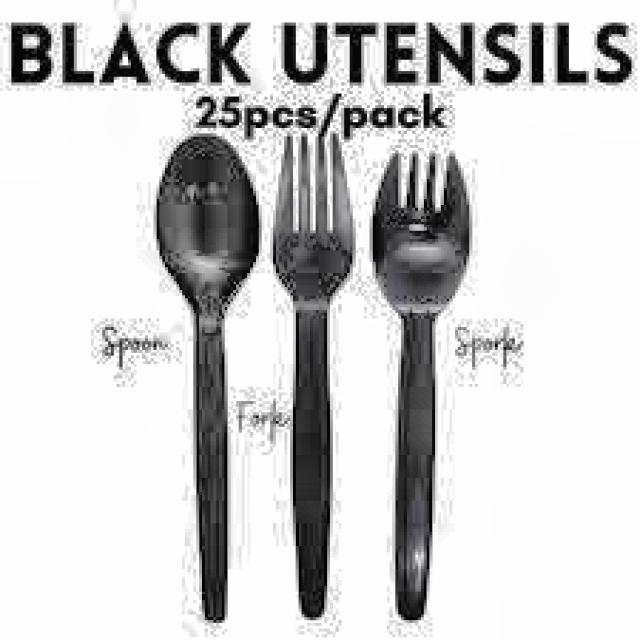plastic utensil: (156, 135, 259, 621), (274, 95, 354, 618)
